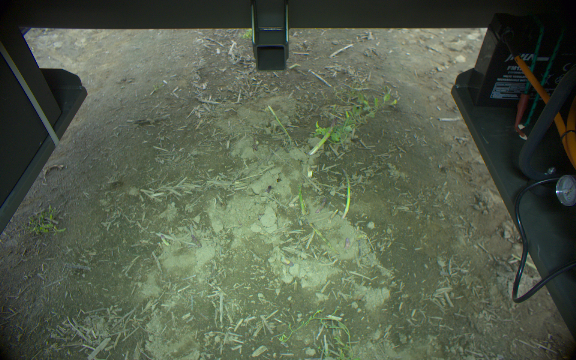aspa: (309, 121, 338, 157), (340, 166, 353, 222), (296, 178, 308, 218)
